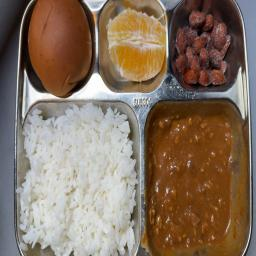100_bread: (28, 0, 94, 92)
100_nuts: (174, 9, 235, 86)
100_orange: (105, 12, 166, 83)
100_rice: (19, 106, 137, 255)
empty: (145, 111, 241, 248)
